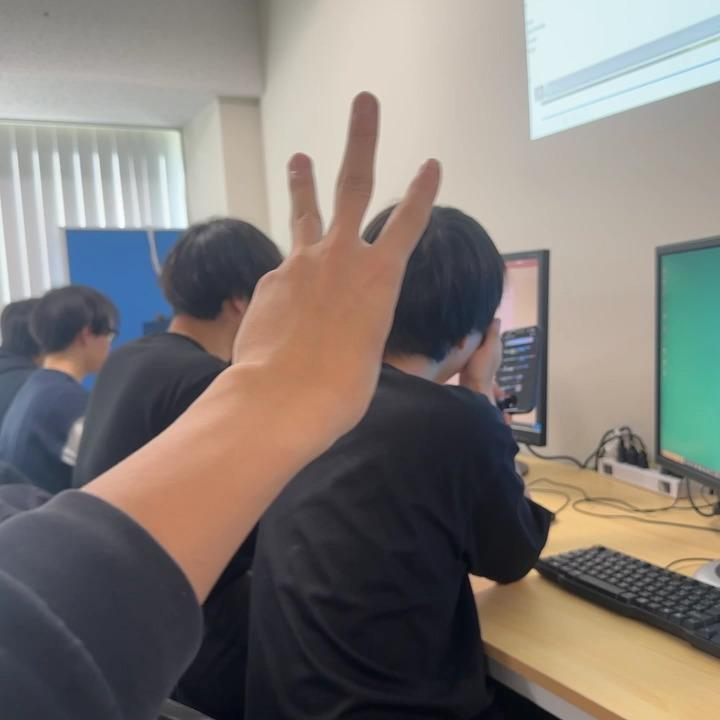without_gloves: (216, 64, 481, 491)
